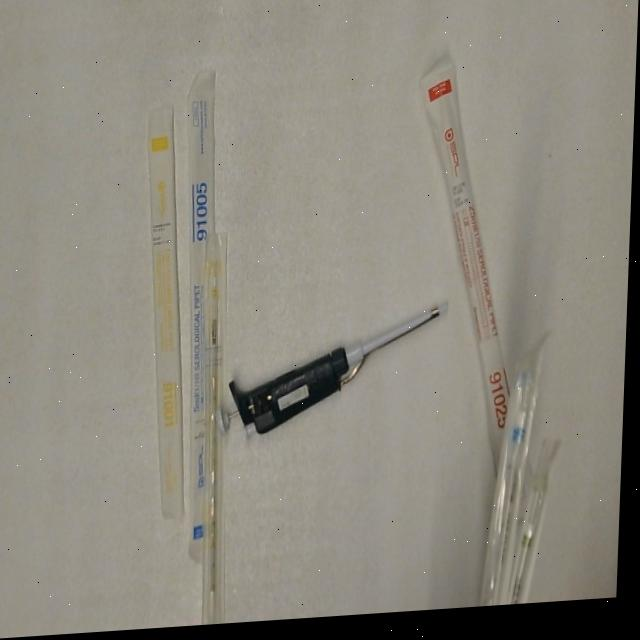Serelogical Pipet 1 mL - Sealed: (136, 99, 201, 530), (196, 227, 243, 629)
Serelogical Pipet 2 mL - Sealed: (514, 435, 571, 612)
Serelogical Pipet 25 mL - Sealed: (408, 60, 533, 487)
Serelogical Pipet 5 mL - Sealed: (175, 66, 241, 573), (484, 335, 555, 614)
Single Channel Pipettor: (214, 302, 457, 446)
